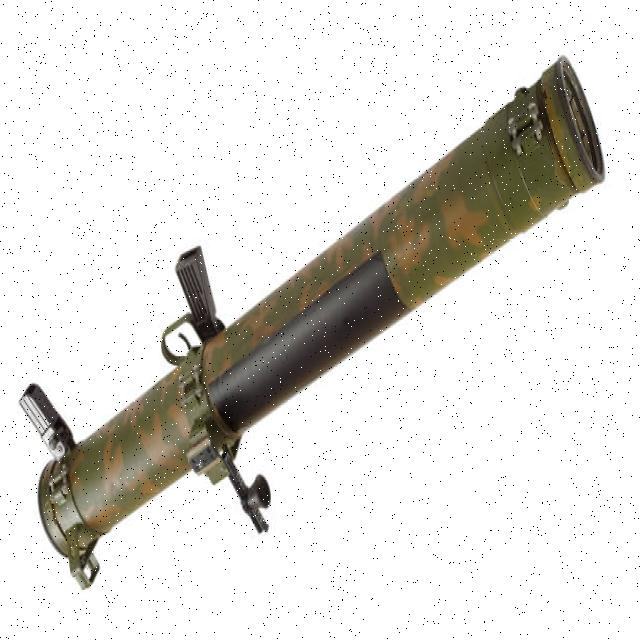bazooka: (12, 51, 621, 604)
